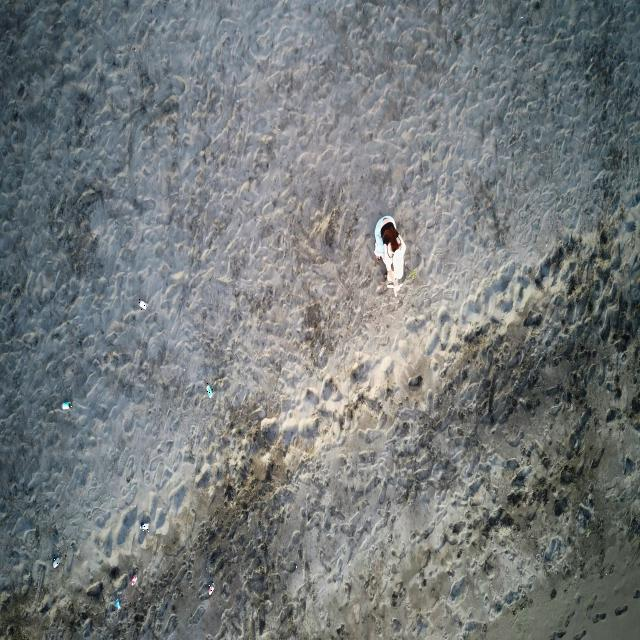tin-and-aluminum-cans: (205, 383, 214, 399), (139, 298, 149, 312), (114, 597, 122, 612), (62, 400, 72, 412), (130, 572, 138, 586), (139, 522, 150, 532), (52, 557, 60, 570), (208, 582, 215, 596)
